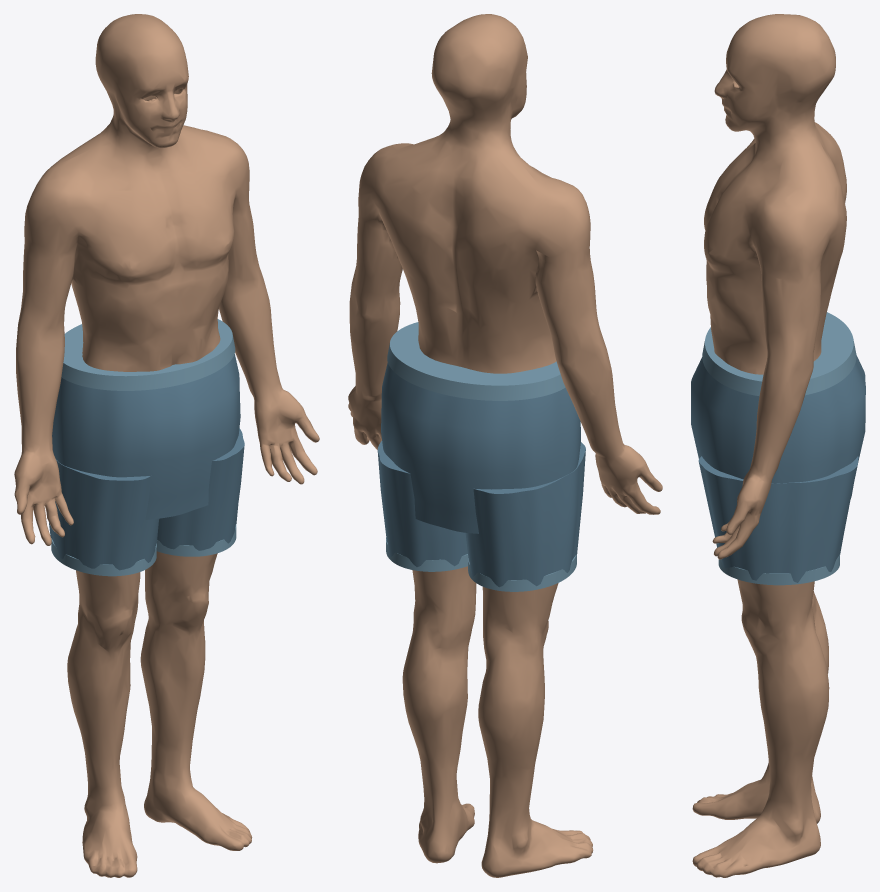
File: body-surface.glb
3 renders of one model, left to right at view 1: azimuth 30°, elevation 25°; view 2: azimuth 150°, elevation 25°; view 3: azimuth 270°, elevation 25°, orthographic. The views are drawn at different scales.
Parts seen in each view (by area): view 1: FMA7163, shorts_hips, shorts_leg_-1, shorts_leg_1, shorts_waist, shorts_hem_-1, shorts_hem_1; view 2: FMA7163, shorts_hips, shorts_leg_-1, shorts_waist, shorts_leg_1, shorts_hem_-1, shorts_hem_1; view 3: FMA7163, shorts_hips, shorts_leg_1, shorts_waist, shorts_hem_1.
Boxes of the visible parts, x1,y1,x2,y2 form: FMA7163: [14, 14, 319, 877]; shorts_hips: [52, 354, 240, 519]; shorts_leg_-1: [49, 459, 159, 570]; shorts_leg_1: [157, 428, 244, 550]; shorts_waist: [61, 319, 235, 390]; shorts_hem_-1: [51, 538, 156, 576]; shorts_hem_1: [156, 524, 236, 556]; FMA7163: [348, 14, 662, 877]; shorts_hips: [381, 363, 580, 533]; shorts_leg_-1: [465, 442, 585, 587]; shorts_waist: [387, 322, 565, 400]; shorts_leg_1: [377, 441, 467, 566]; shorts_hem_-1: [468, 554, 576, 591]; shorts_hem_1: [386, 537, 468, 571]; FMA7163: [692, 14, 846, 877]; shorts_hips: [691, 355, 865, 498]; shorts_leg_1: [698, 456, 858, 582]; shorts_waist: [702, 312, 856, 396]; shorts_hem_1: [718, 554, 839, 585].
Size of the model in its own units: 0.667 by 1.72 by 0.331.
